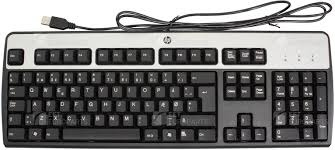keyboard: (0, 27, 334, 150)
